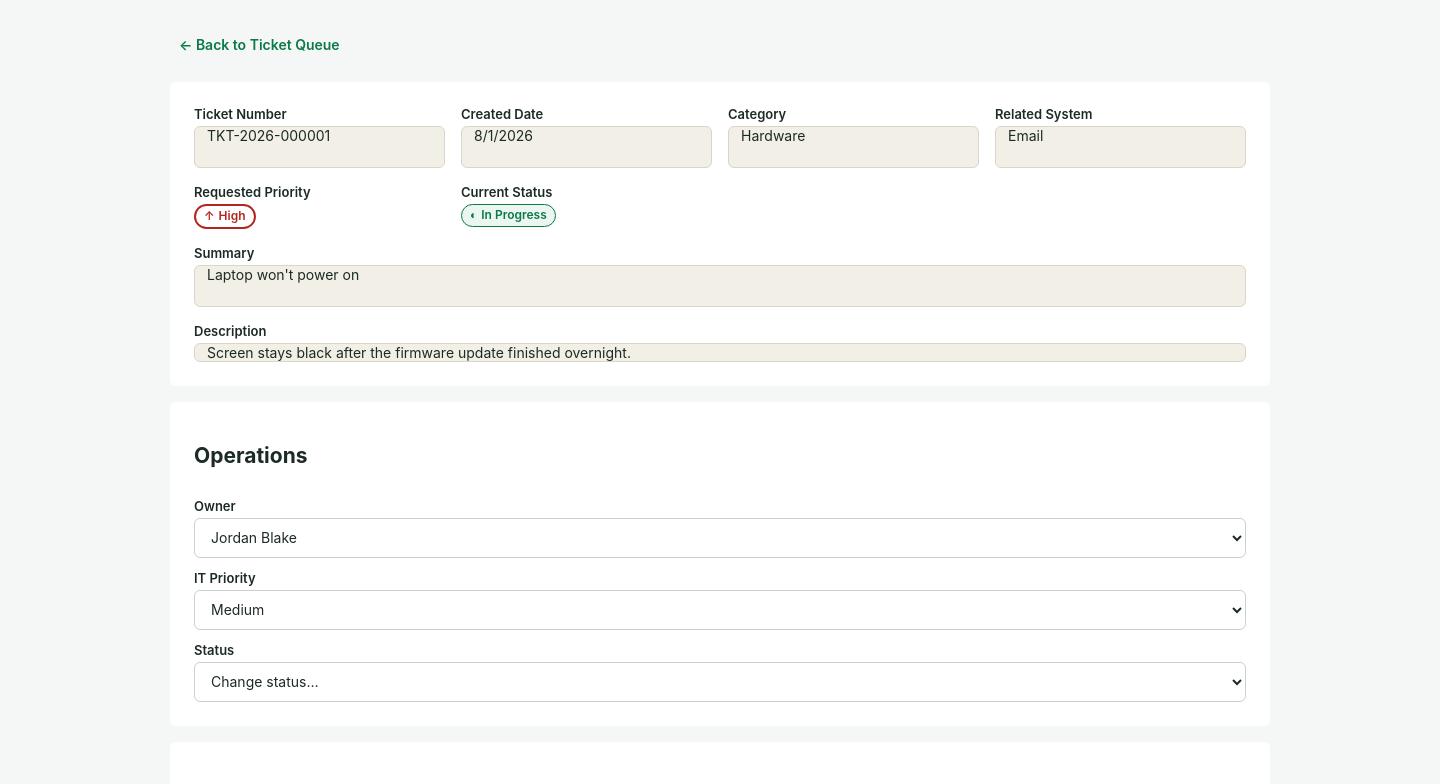
Test: Ticket workflow controls (BR-15, BR-17) › an illegal-transition 409 keeps its own message and does not show the conflict banner
The image size is (1440, 784).
Select "Resolved" in the dropdown named "Status". click: (720, 682)
box: [194, 662, 1246, 702]
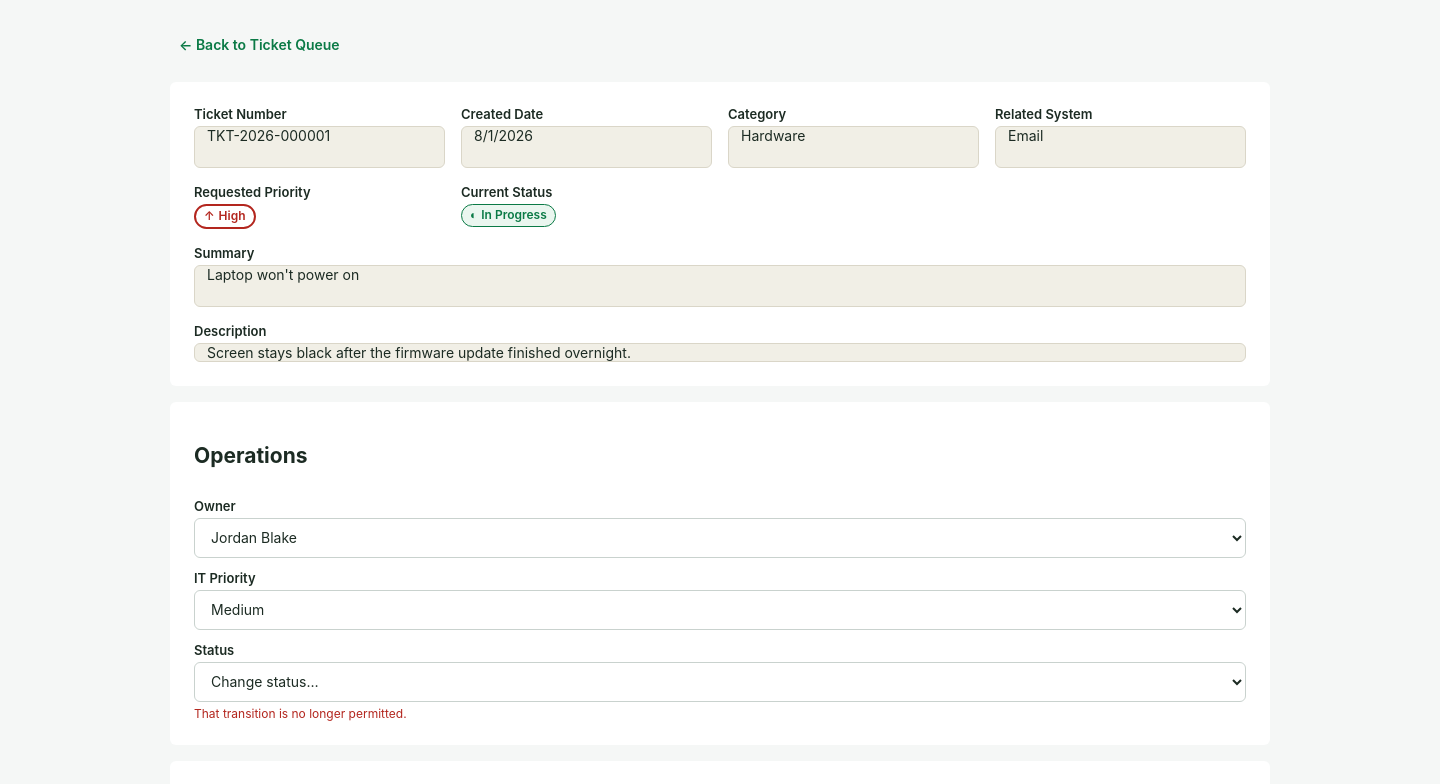
Result: the text "That transition is no longer permitted." is shown at [194, 706, 407, 721]
